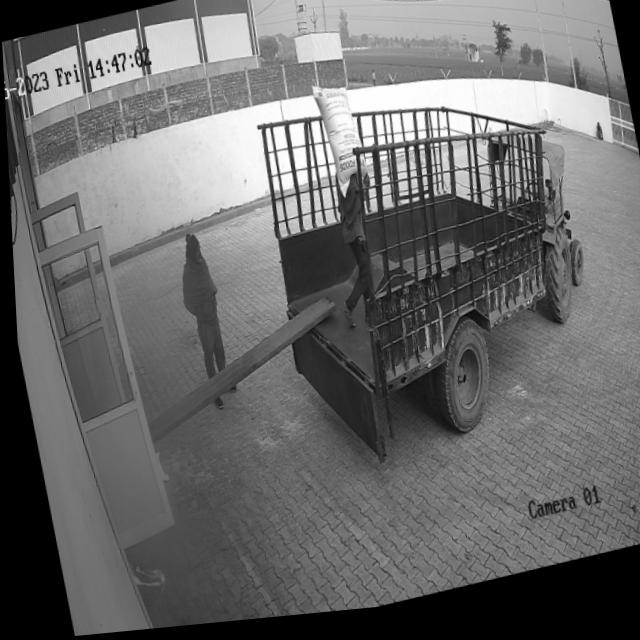sack: (308, 81, 368, 207)
